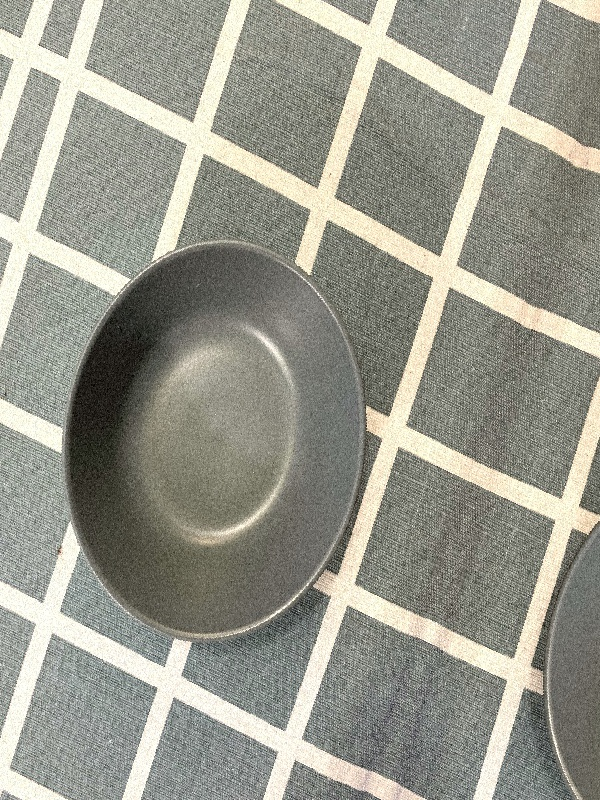bowl_big: (2, 172, 427, 726)
